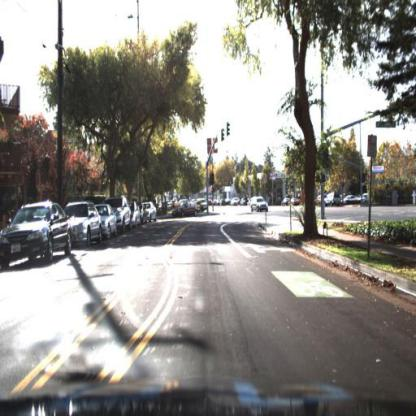car: (1, 196, 76, 276), (72, 200, 103, 250), (169, 198, 204, 223), (100, 202, 120, 241), (117, 198, 134, 235), (249, 195, 273, 216), (132, 199, 142, 233), (195, 195, 211, 214), (360, 193, 378, 209), (342, 194, 360, 208), (315, 193, 325, 209)
